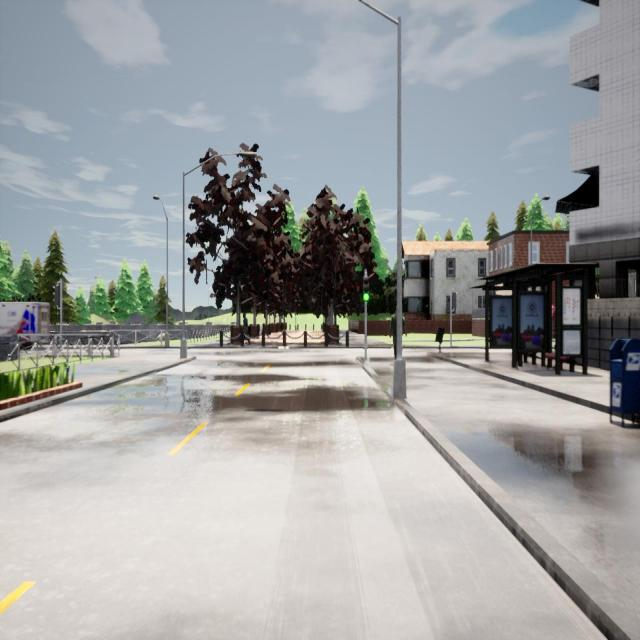Pedestrian: (388, 304, 408, 359), (239, 311, 251, 346)
Vehicle: (0, 302, 50, 351)
traffic_light: (363, 277, 370, 301), (52, 286, 60, 305), (452, 292, 458, 308)
